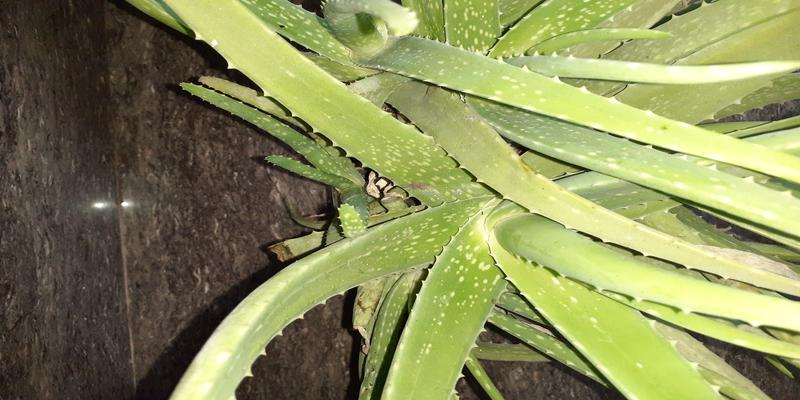Aloevera: (218, 10, 793, 379)
